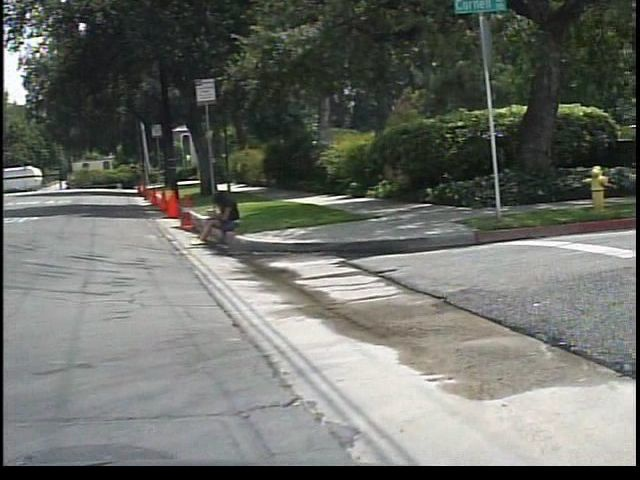person: (195, 190, 253, 247)
